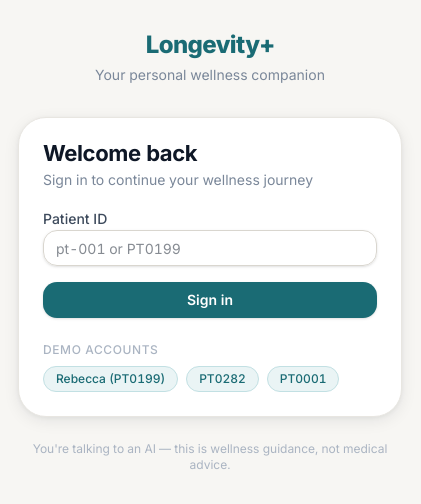
it: LoginPage › shows inline error when API returns 400
In the field with placeholder "pt-001 or PT0199": (210, 248) 43,230 -> 377,266, type "bad-id!!!"
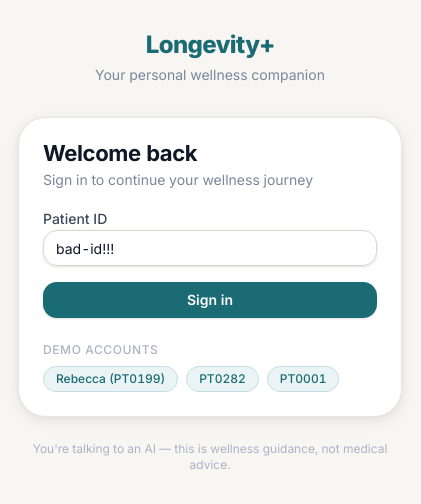
Click the button "Sign in": click(210, 300) 43,282 -> 377,318
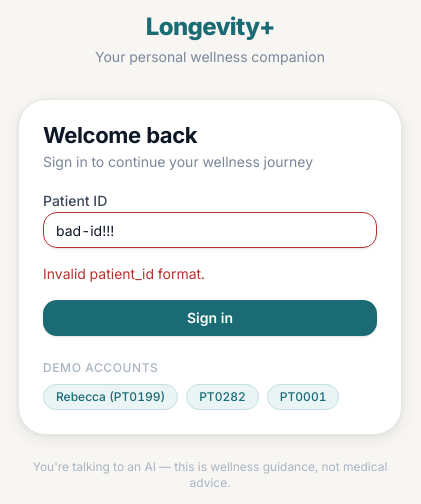
Check: the message "Invalid patient_id format." is shown, box 43,265 -> 205,282
